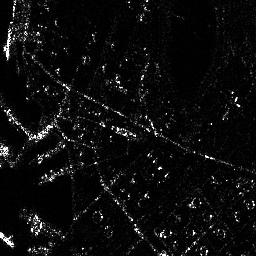ship: (3, 27, 12, 61), (1, 231, 14, 248)
